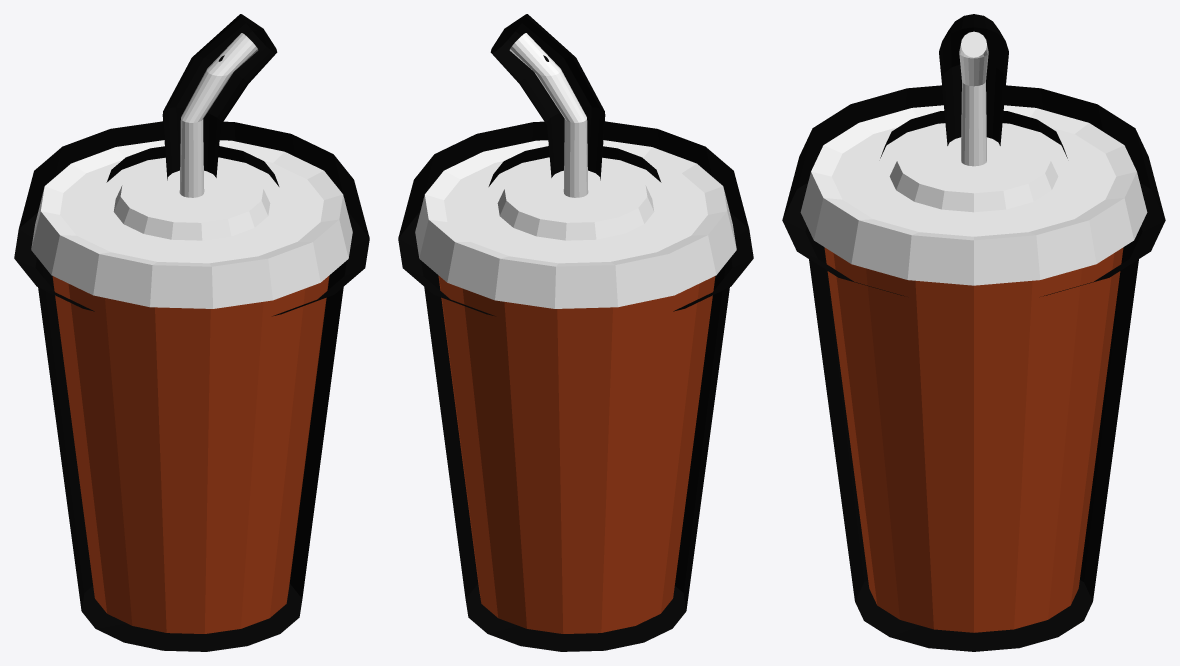
Rendered from Refri.fbx.
3 views of the same model, side by side, from view 1: azimuth 30°, elevation 25°; view 2: azimuth 150°, elevation 25°; view 3: azimuth 270°, elevation 25° (orthographic). The views are drawn at different scales.
Parts seen in each view (by area): view 1: refri, outlinerefri; view 2: refri, outlinerefri; view 3: refri, outlinerefri.
Boxes of the visible parts, x1=… form: refri: x1=31, y1=33, x2=352, y2=633; outlinerefri: x1=14, y1=14, x2=369, y2=651; refri: x1=415, y1=33, x2=736, y2=633; outlinerefri: x1=398, y1=14, x2=753, y2=651; refri: x1=800, y1=31, x2=1147, y2=632; outlinerefri: x1=782, y1=14, x2=1165, y2=651.
Size of the model in its own units: 0.2825 by 0.2825 by 0.5048.
2 materials, 1 textured.
